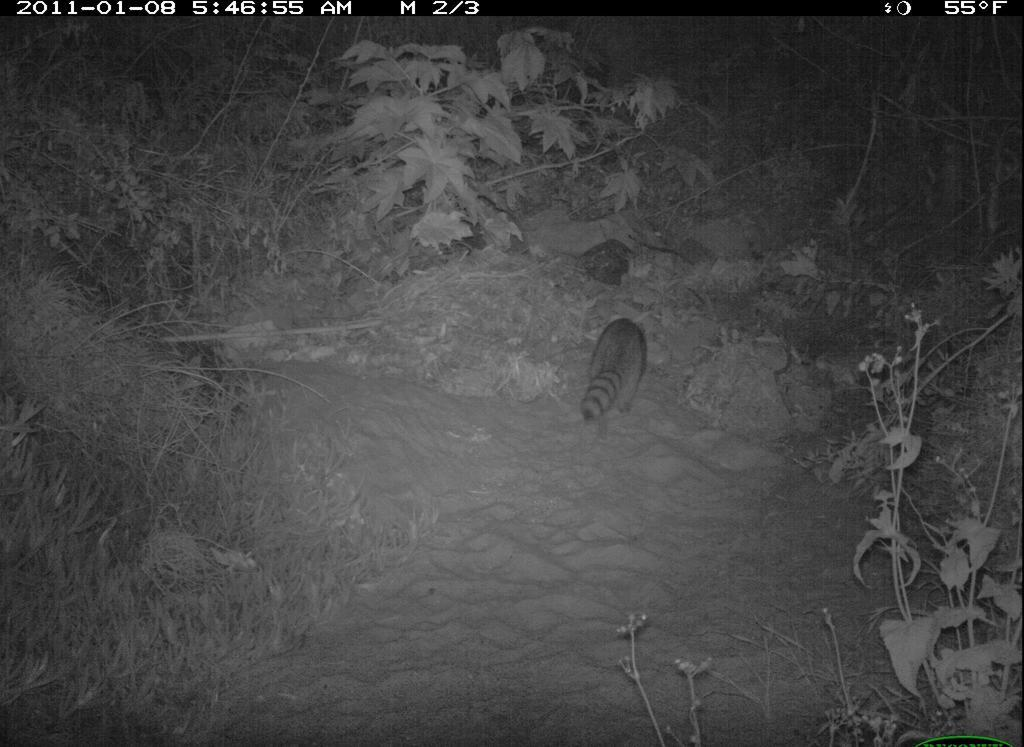raccoon: (578, 309, 652, 432)
